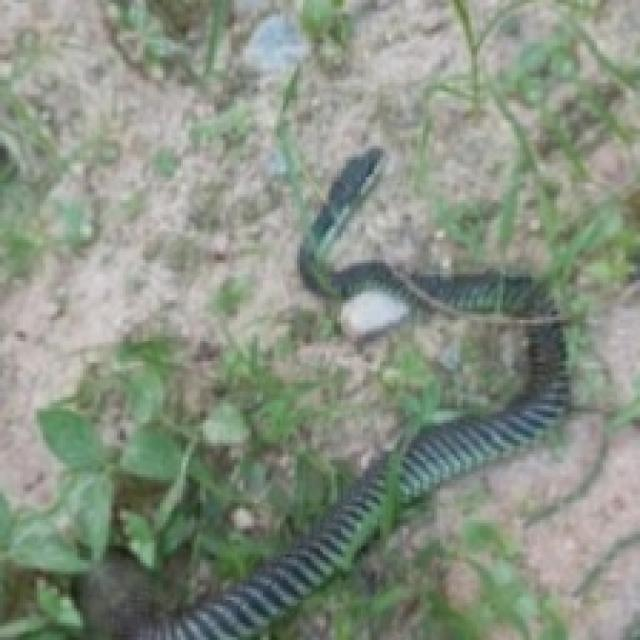paradise tree snake: (131, 149, 566, 637), (134, 149, 566, 637)
